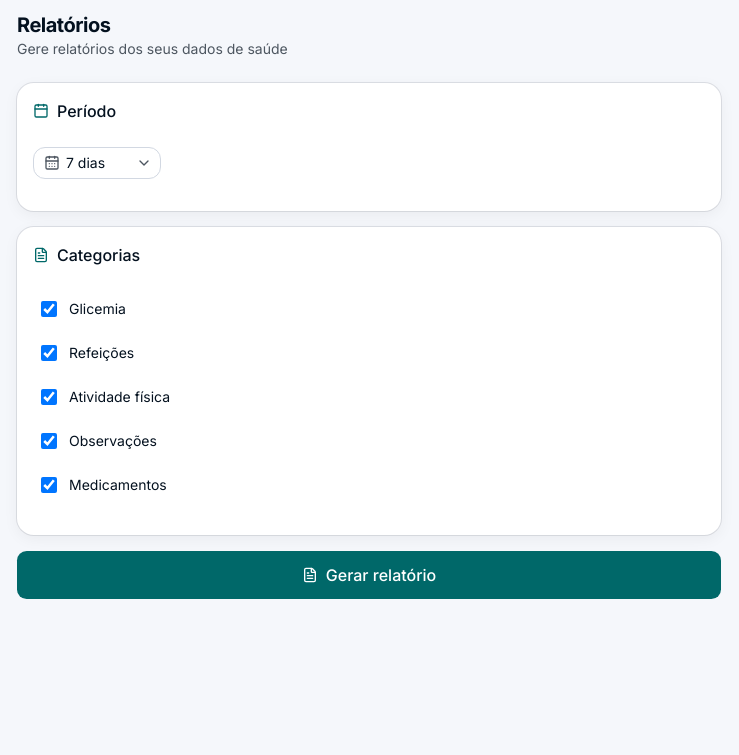
it: ReportsWidget › invalidates a generated report when a category is toggled
What coordinates should you click on to do the following:
click the button "Gerar relatório"
I would click on:
 (369, 575)
Its box is [17,551,721,599].
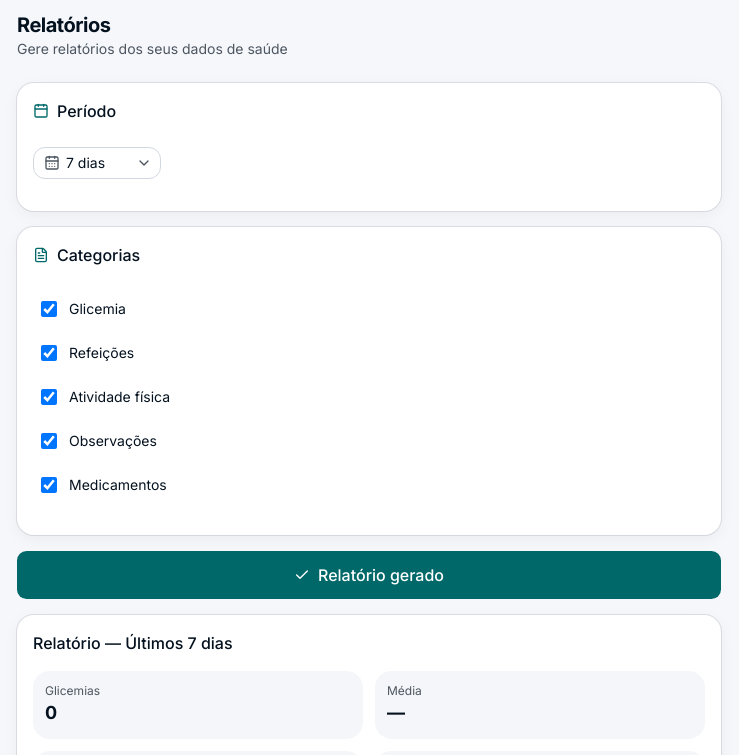
What coordinates should you click on to do the following:
click the checkbox labelled "Refeições"
I would click on:
 (49, 353)
Its box is [41,345,57,361].
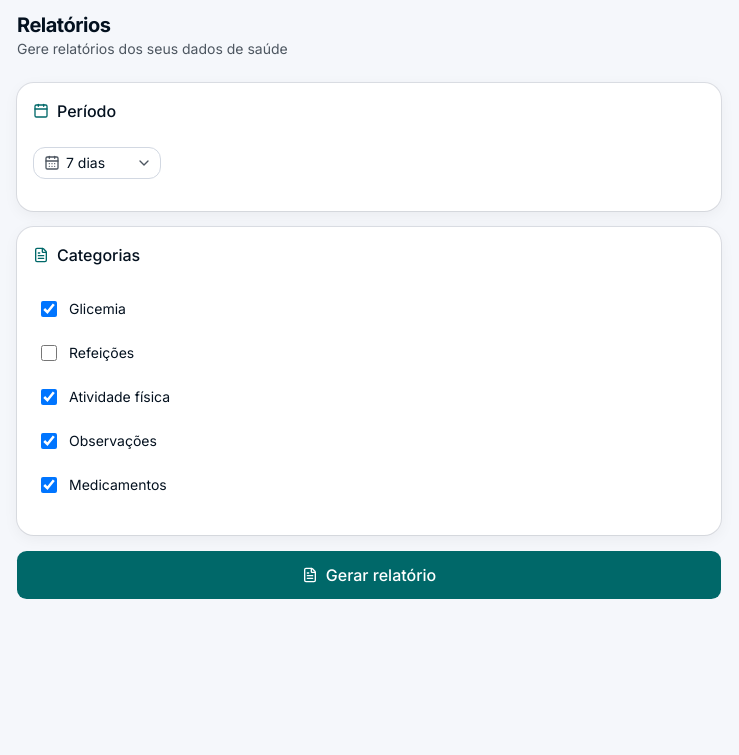
expect the button "Gerar relatório" is shown: met, box [17,551,721,599]
